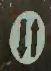Two way: (7, 6, 45, 64)
